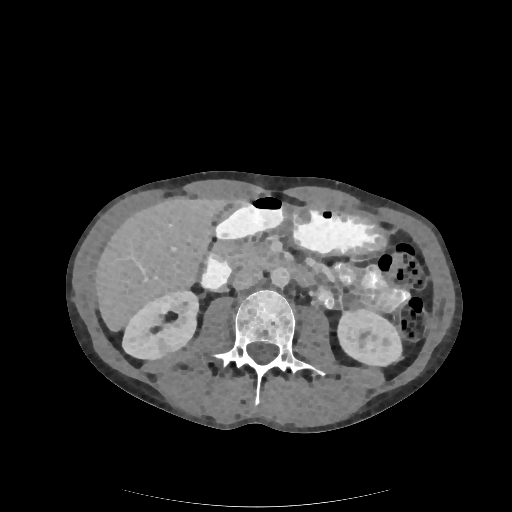Lesion: (154, 336, 172, 357)
